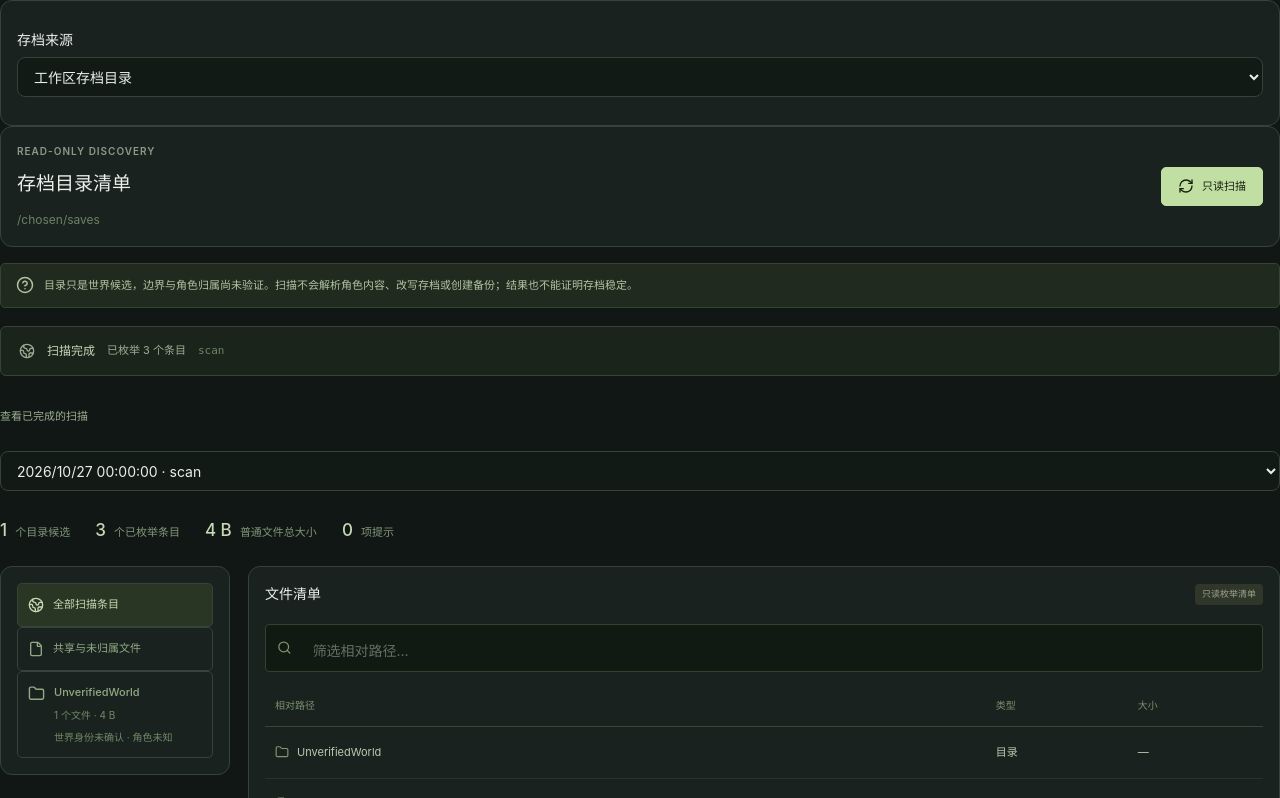
Test case: read-only inventory › keeps candidates unverified and separates shared files without merging character names
The image size is (1280, 798).
Expected: the text "世界身份未确认 · 角色未知" is shown, [54,730,172,745]
Click the button "共享与未归属文件".
click(115, 649)  # box [17,627,213,670]
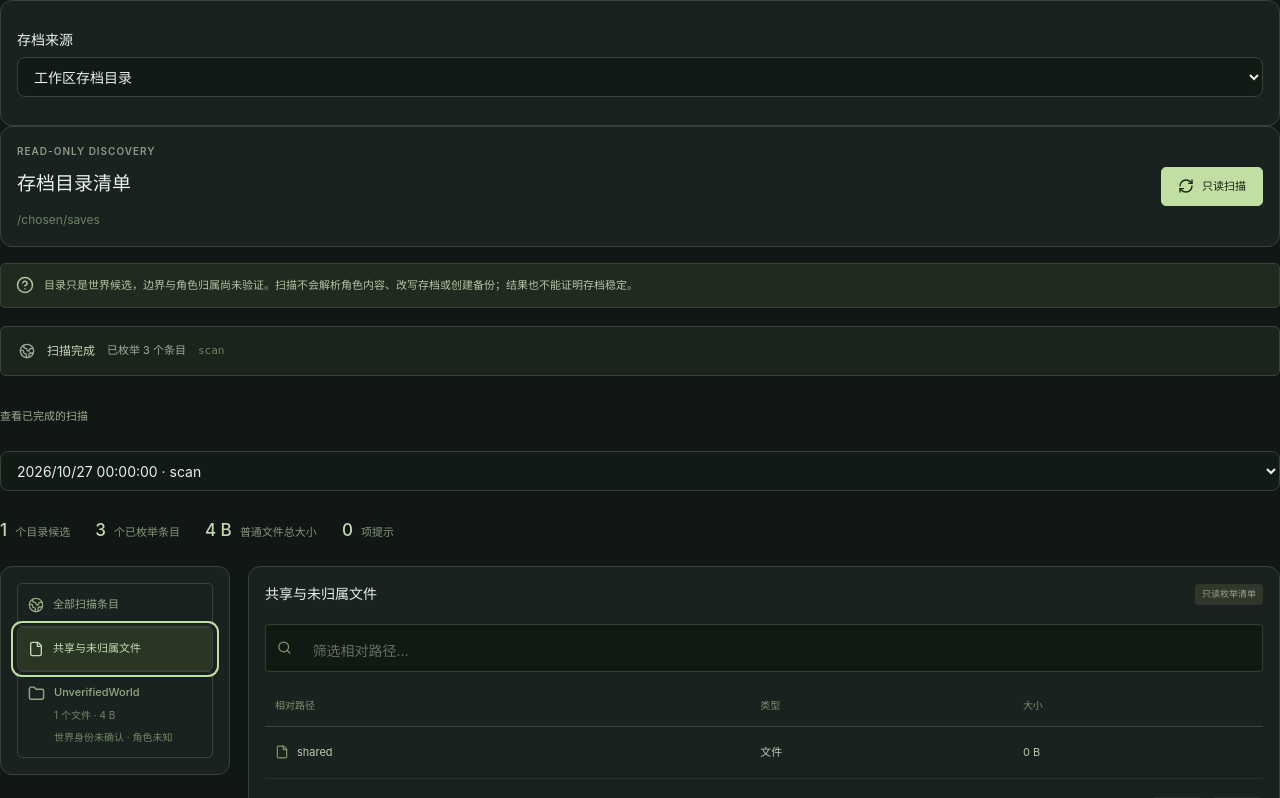
Expected: the text "shared" is shown, [297,744,333,761]
Expected: the text "UnverifiedWorld/same-name.sav" is not shown
Click the button "UnverifiedWorld 1 个文件 · 4 B 世界身份未确认 · 角色未知".
click(115, 714)  # box [17,670,213,758]
(page scrolled)
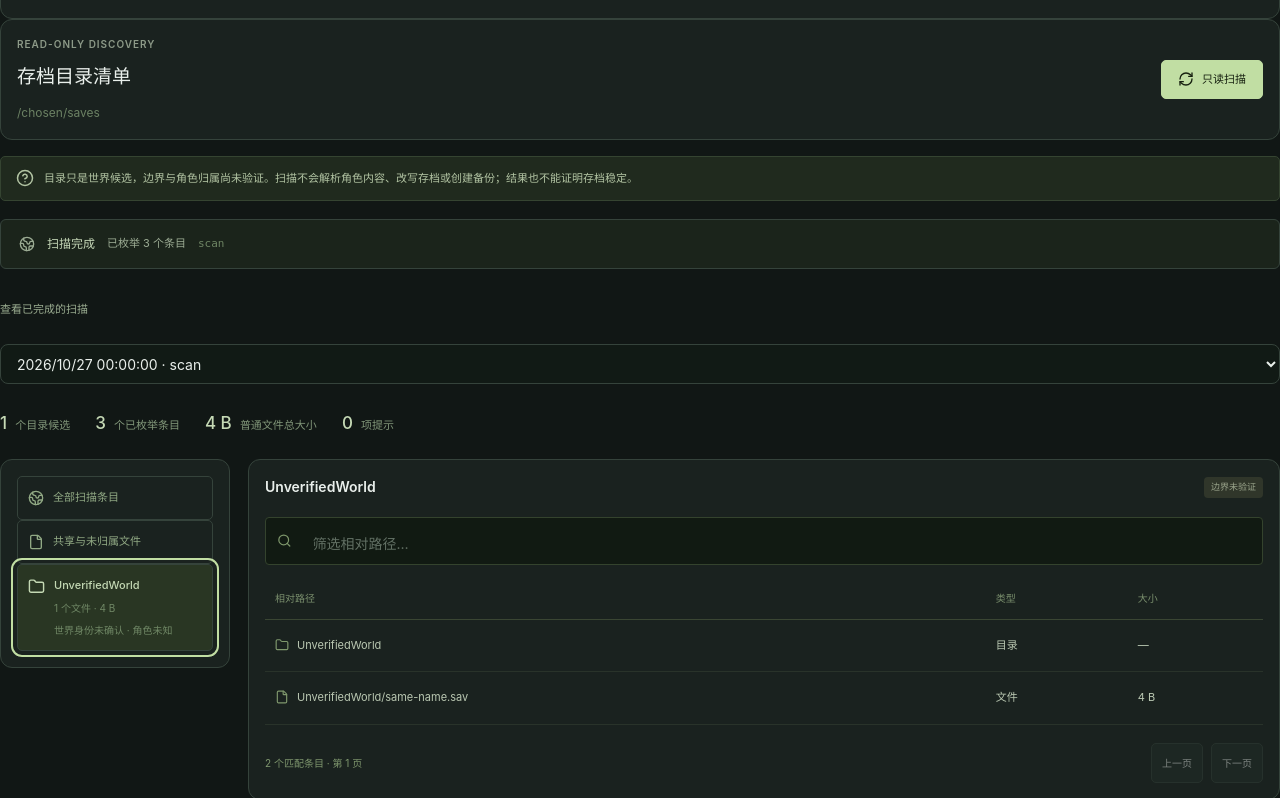
Now the text "边界未验证" is shown, box [1204,477,1263,498]
Now the text "UnverifiedWorld/same-name.sav" is shown, box [297,689,468,707]
